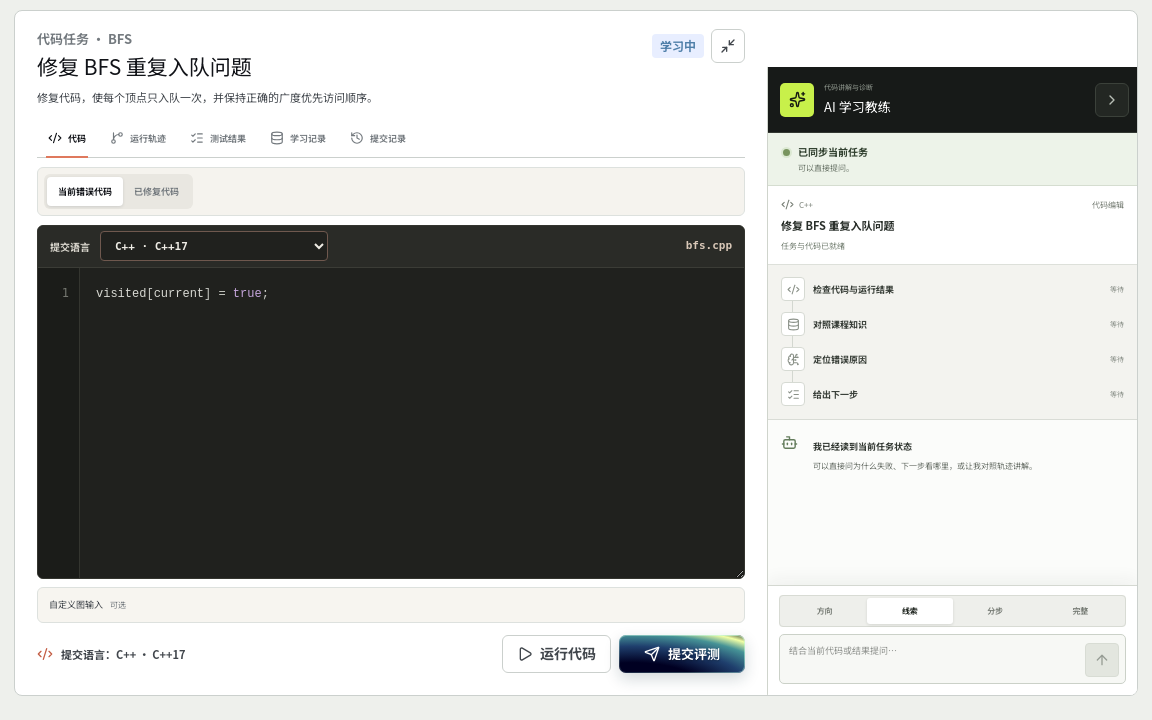
WorkbenchPage › opens submission history and restores the selected snapshot into the editor
Expected: the heading "修复 BFS 重复入队问题" is shown, top-left (37, 52), bottom-right (252, 79)
Click the button "提交记录" at (378, 138), box top-left (339, 120), bottom-right (417, 157)
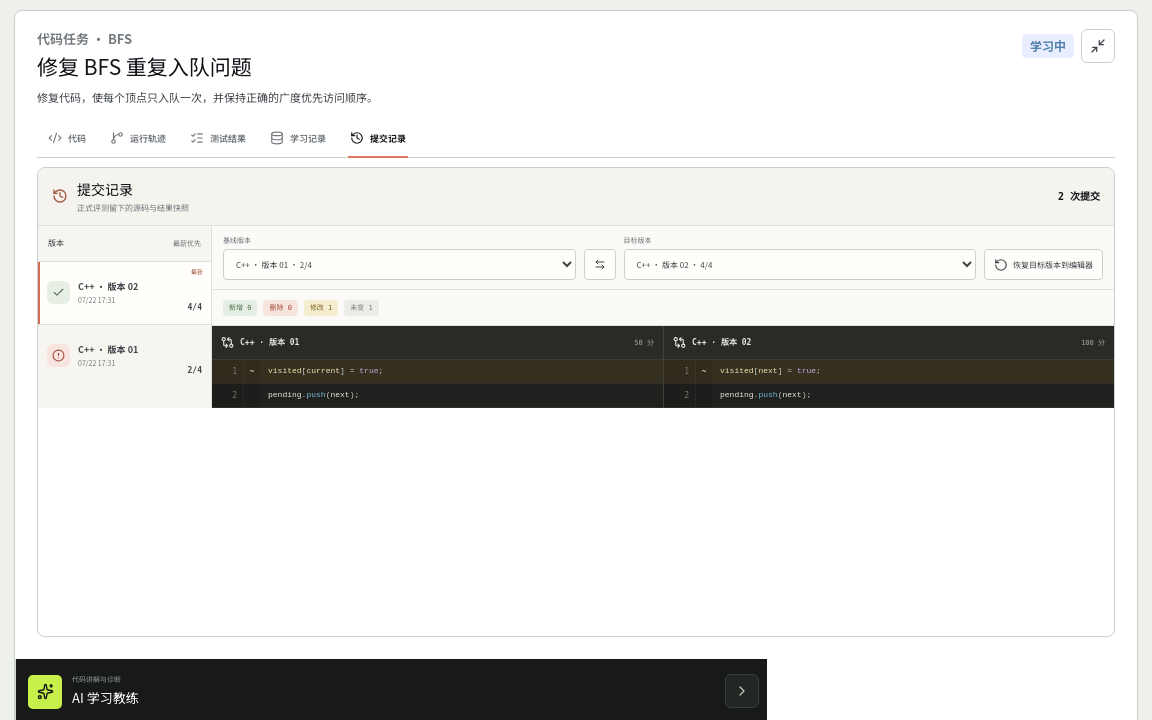
Result: the heading "提交记录" is shown at top-left (77, 179), bottom-right (133, 199)
Result: the dropdown labelled "基线版本" shows "C++ · 版本 01 · 2/4" at top-left (223, 249), bottom-right (576, 280)
Result: the dropdown labelled "目标版本" shows "C++ · 版本 02 · 4/4" at top-left (624, 249), bottom-right (976, 280)
Click the button "恢复目标版本到编辑器" at (1044, 265), box top-left (984, 249), bottom-right (1103, 280)
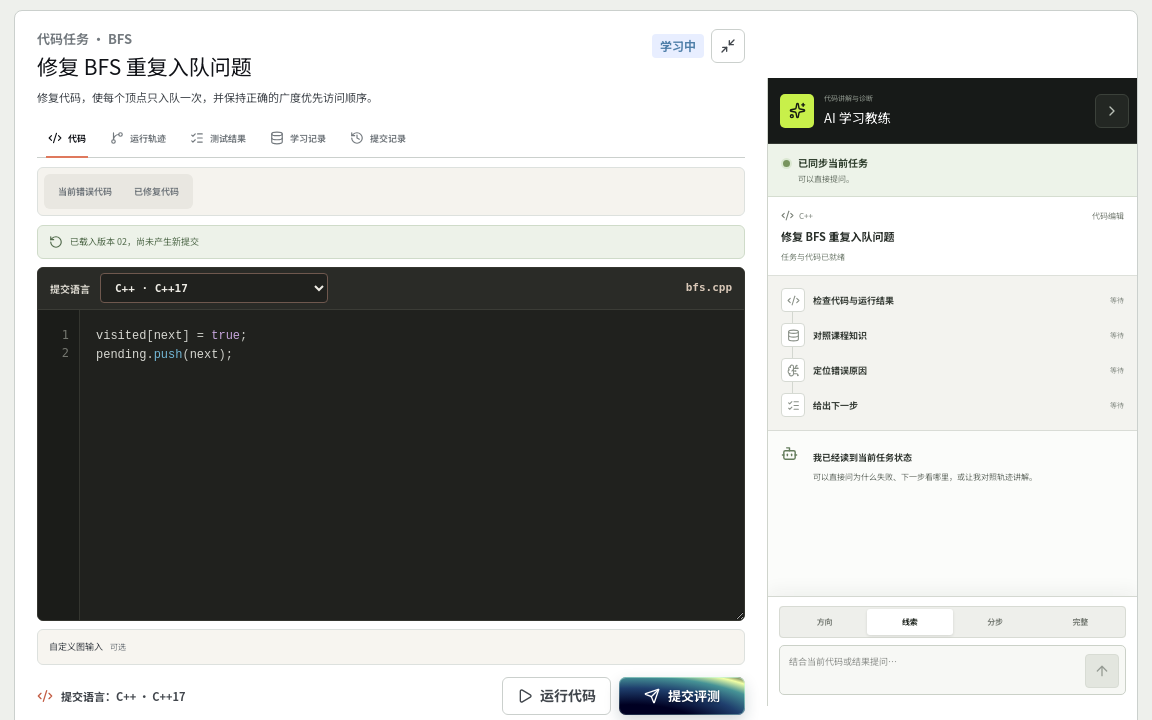
Result: the text "已载入版本 02，尚未产生新提交" is shown at top-left (37, 225), bottom-right (745, 259)
